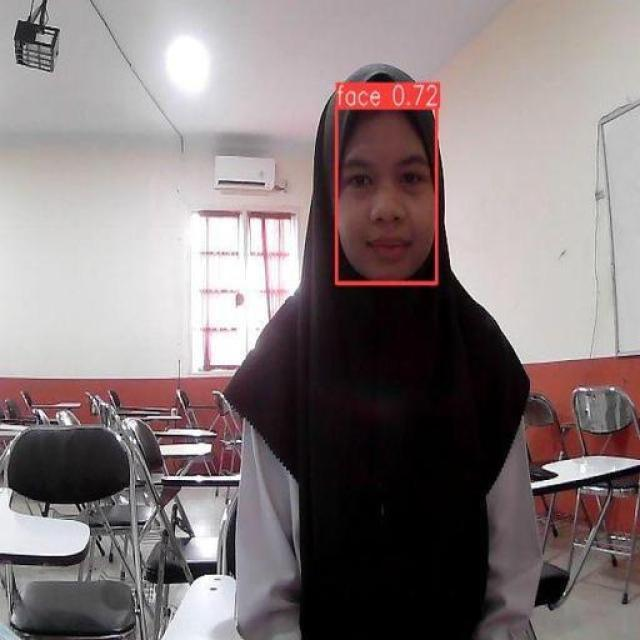bareface: (328, 85, 432, 290)
